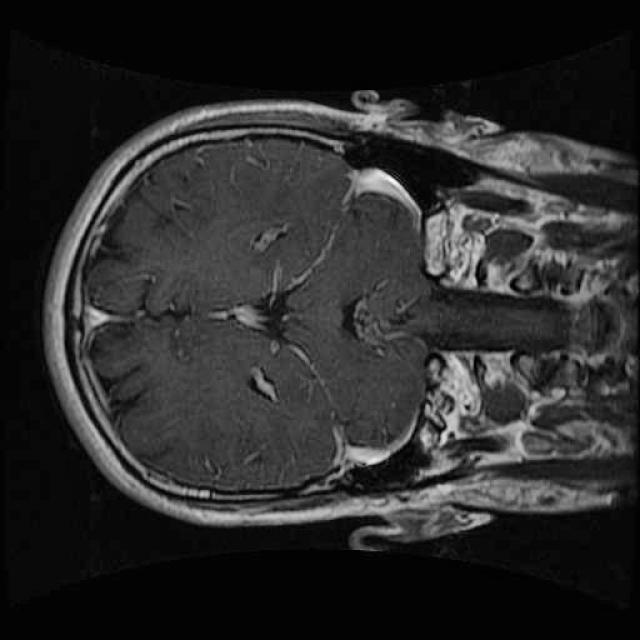Non-Tumor: (339, 265, 452, 365)
